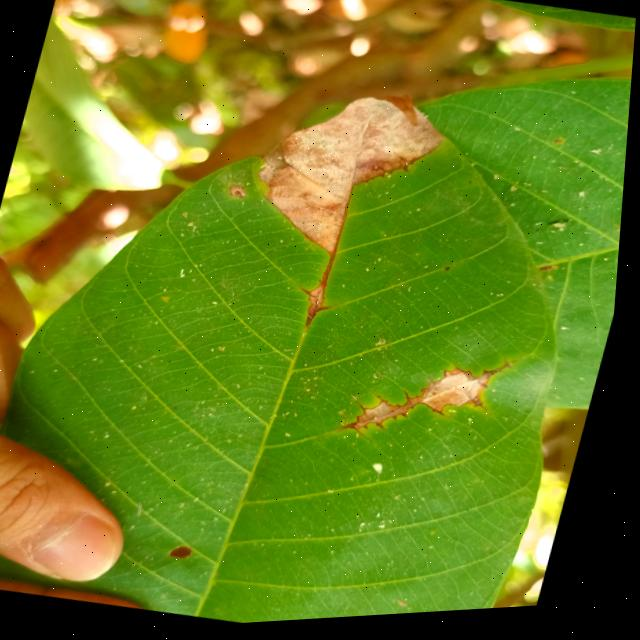Corynespora: (342, 335, 527, 467), (294, 251, 349, 339)
Leaf-Blight: (242, 73, 458, 278)
